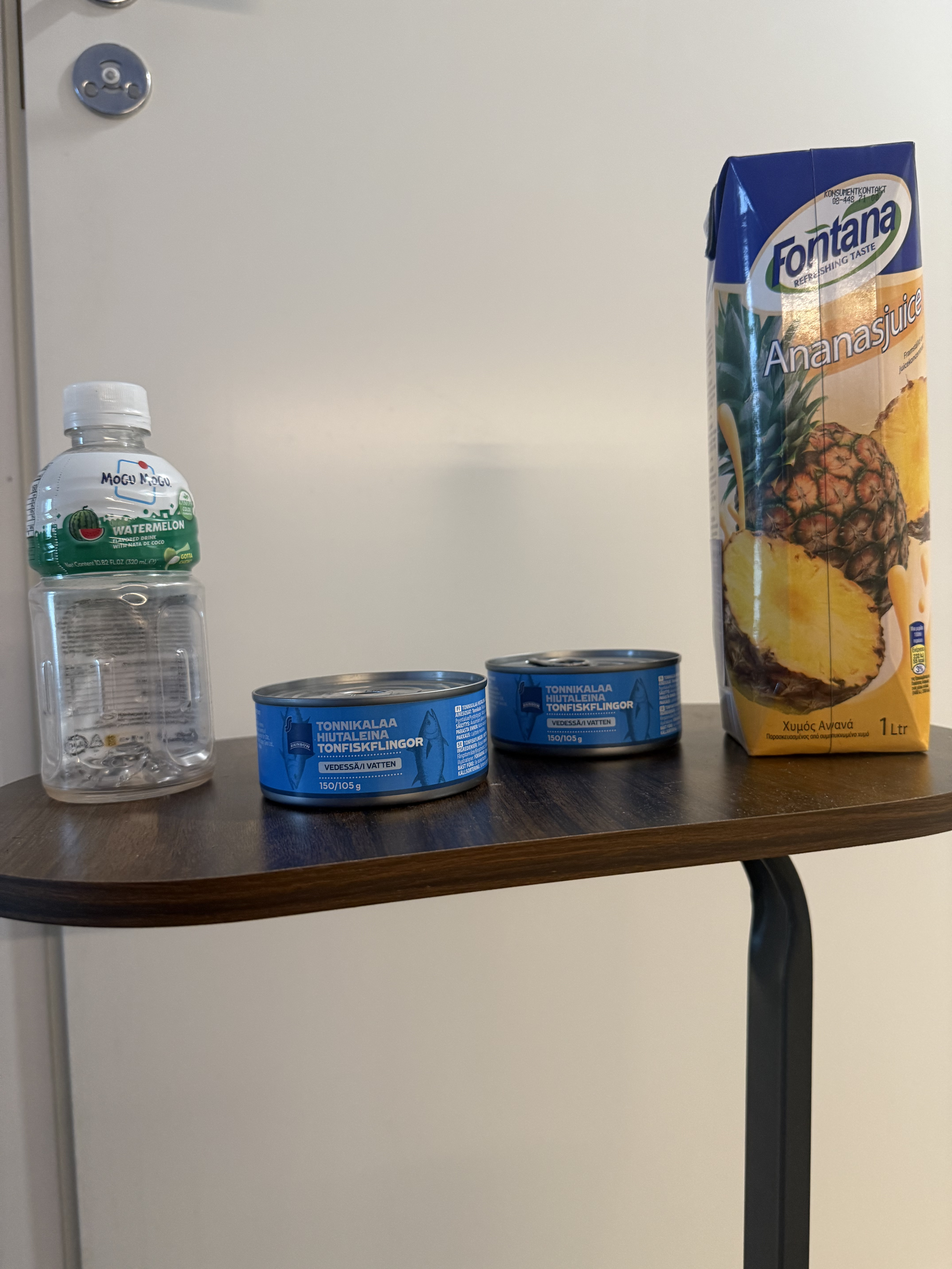Dryckeskartong: (711, 151, 933, 755)
Konservburk: (251, 682, 491, 795), (493, 662, 683, 750)
Pantburk: (15, 380, 222, 800)
